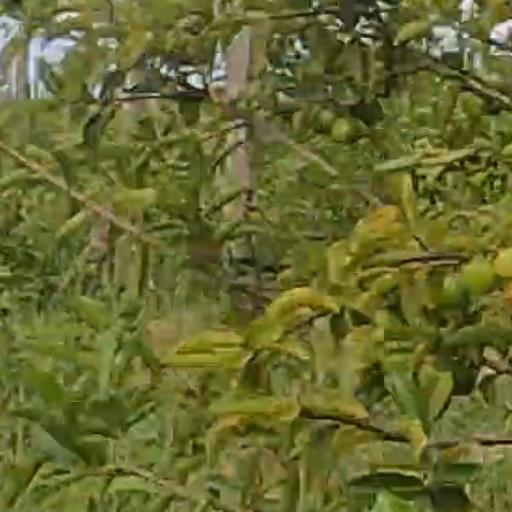acerola: (465, 261, 495, 292), (440, 274, 467, 305), (331, 118, 360, 142), (317, 106, 333, 130)
